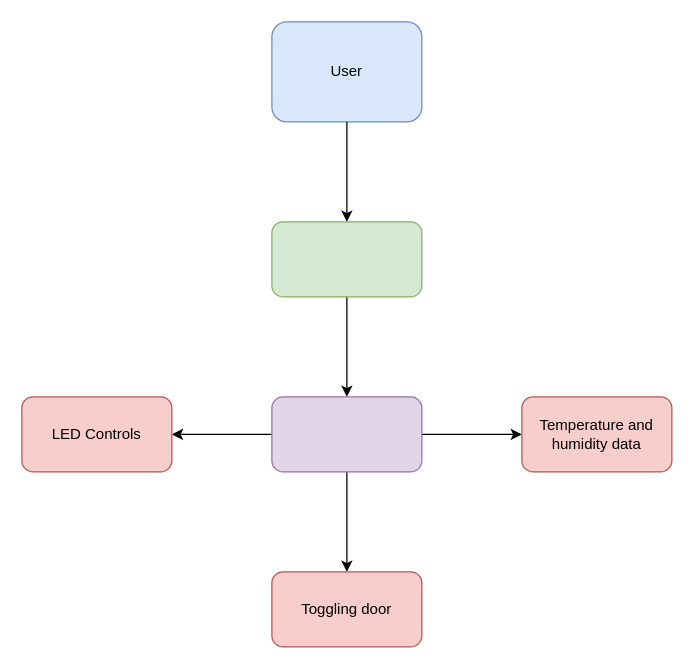
Image size: 694x669. Some labels were removed from this diagram. The shapes that lost their labels are listed below. From the top down, each one's centre as x and y in pixels, then its label:
(346,259): Blynk App
(346,434): ESP32
